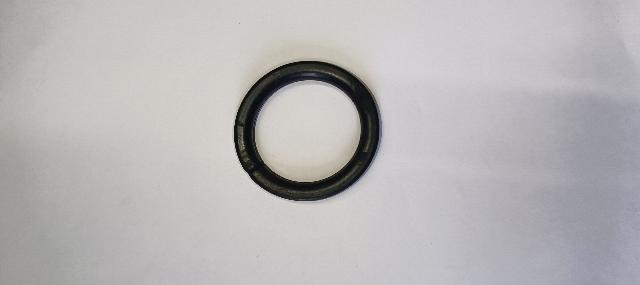4: (349, 149, 376, 172)
crack: (243, 164, 275, 179)
scratch: (235, 116, 256, 134)
